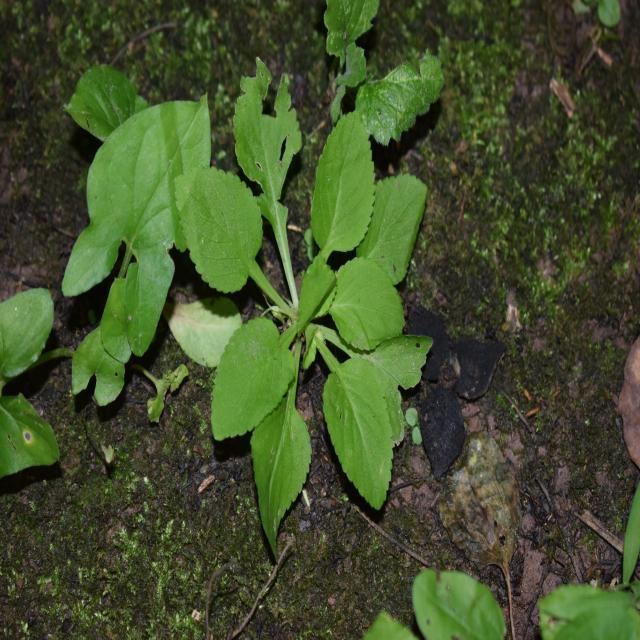Viola: (173, 88, 427, 512)
